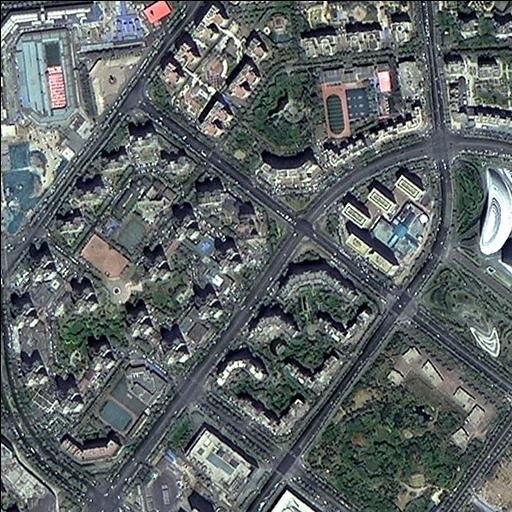school: (89, 350, 175, 439), (317, 60, 399, 147), (113, 176, 182, 258)
